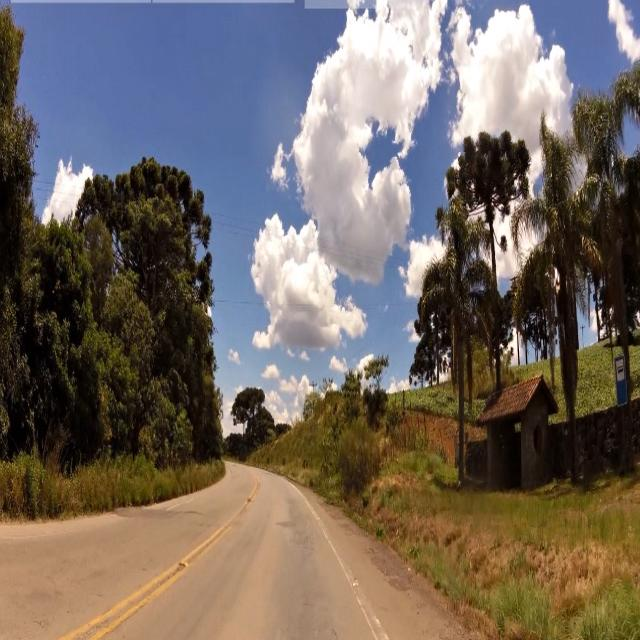S-14: (615, 358, 629, 408)
